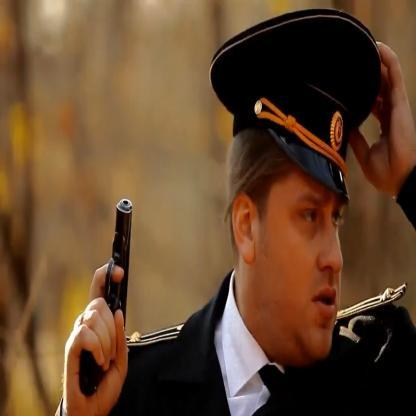gun: (59, 146, 139, 416)
